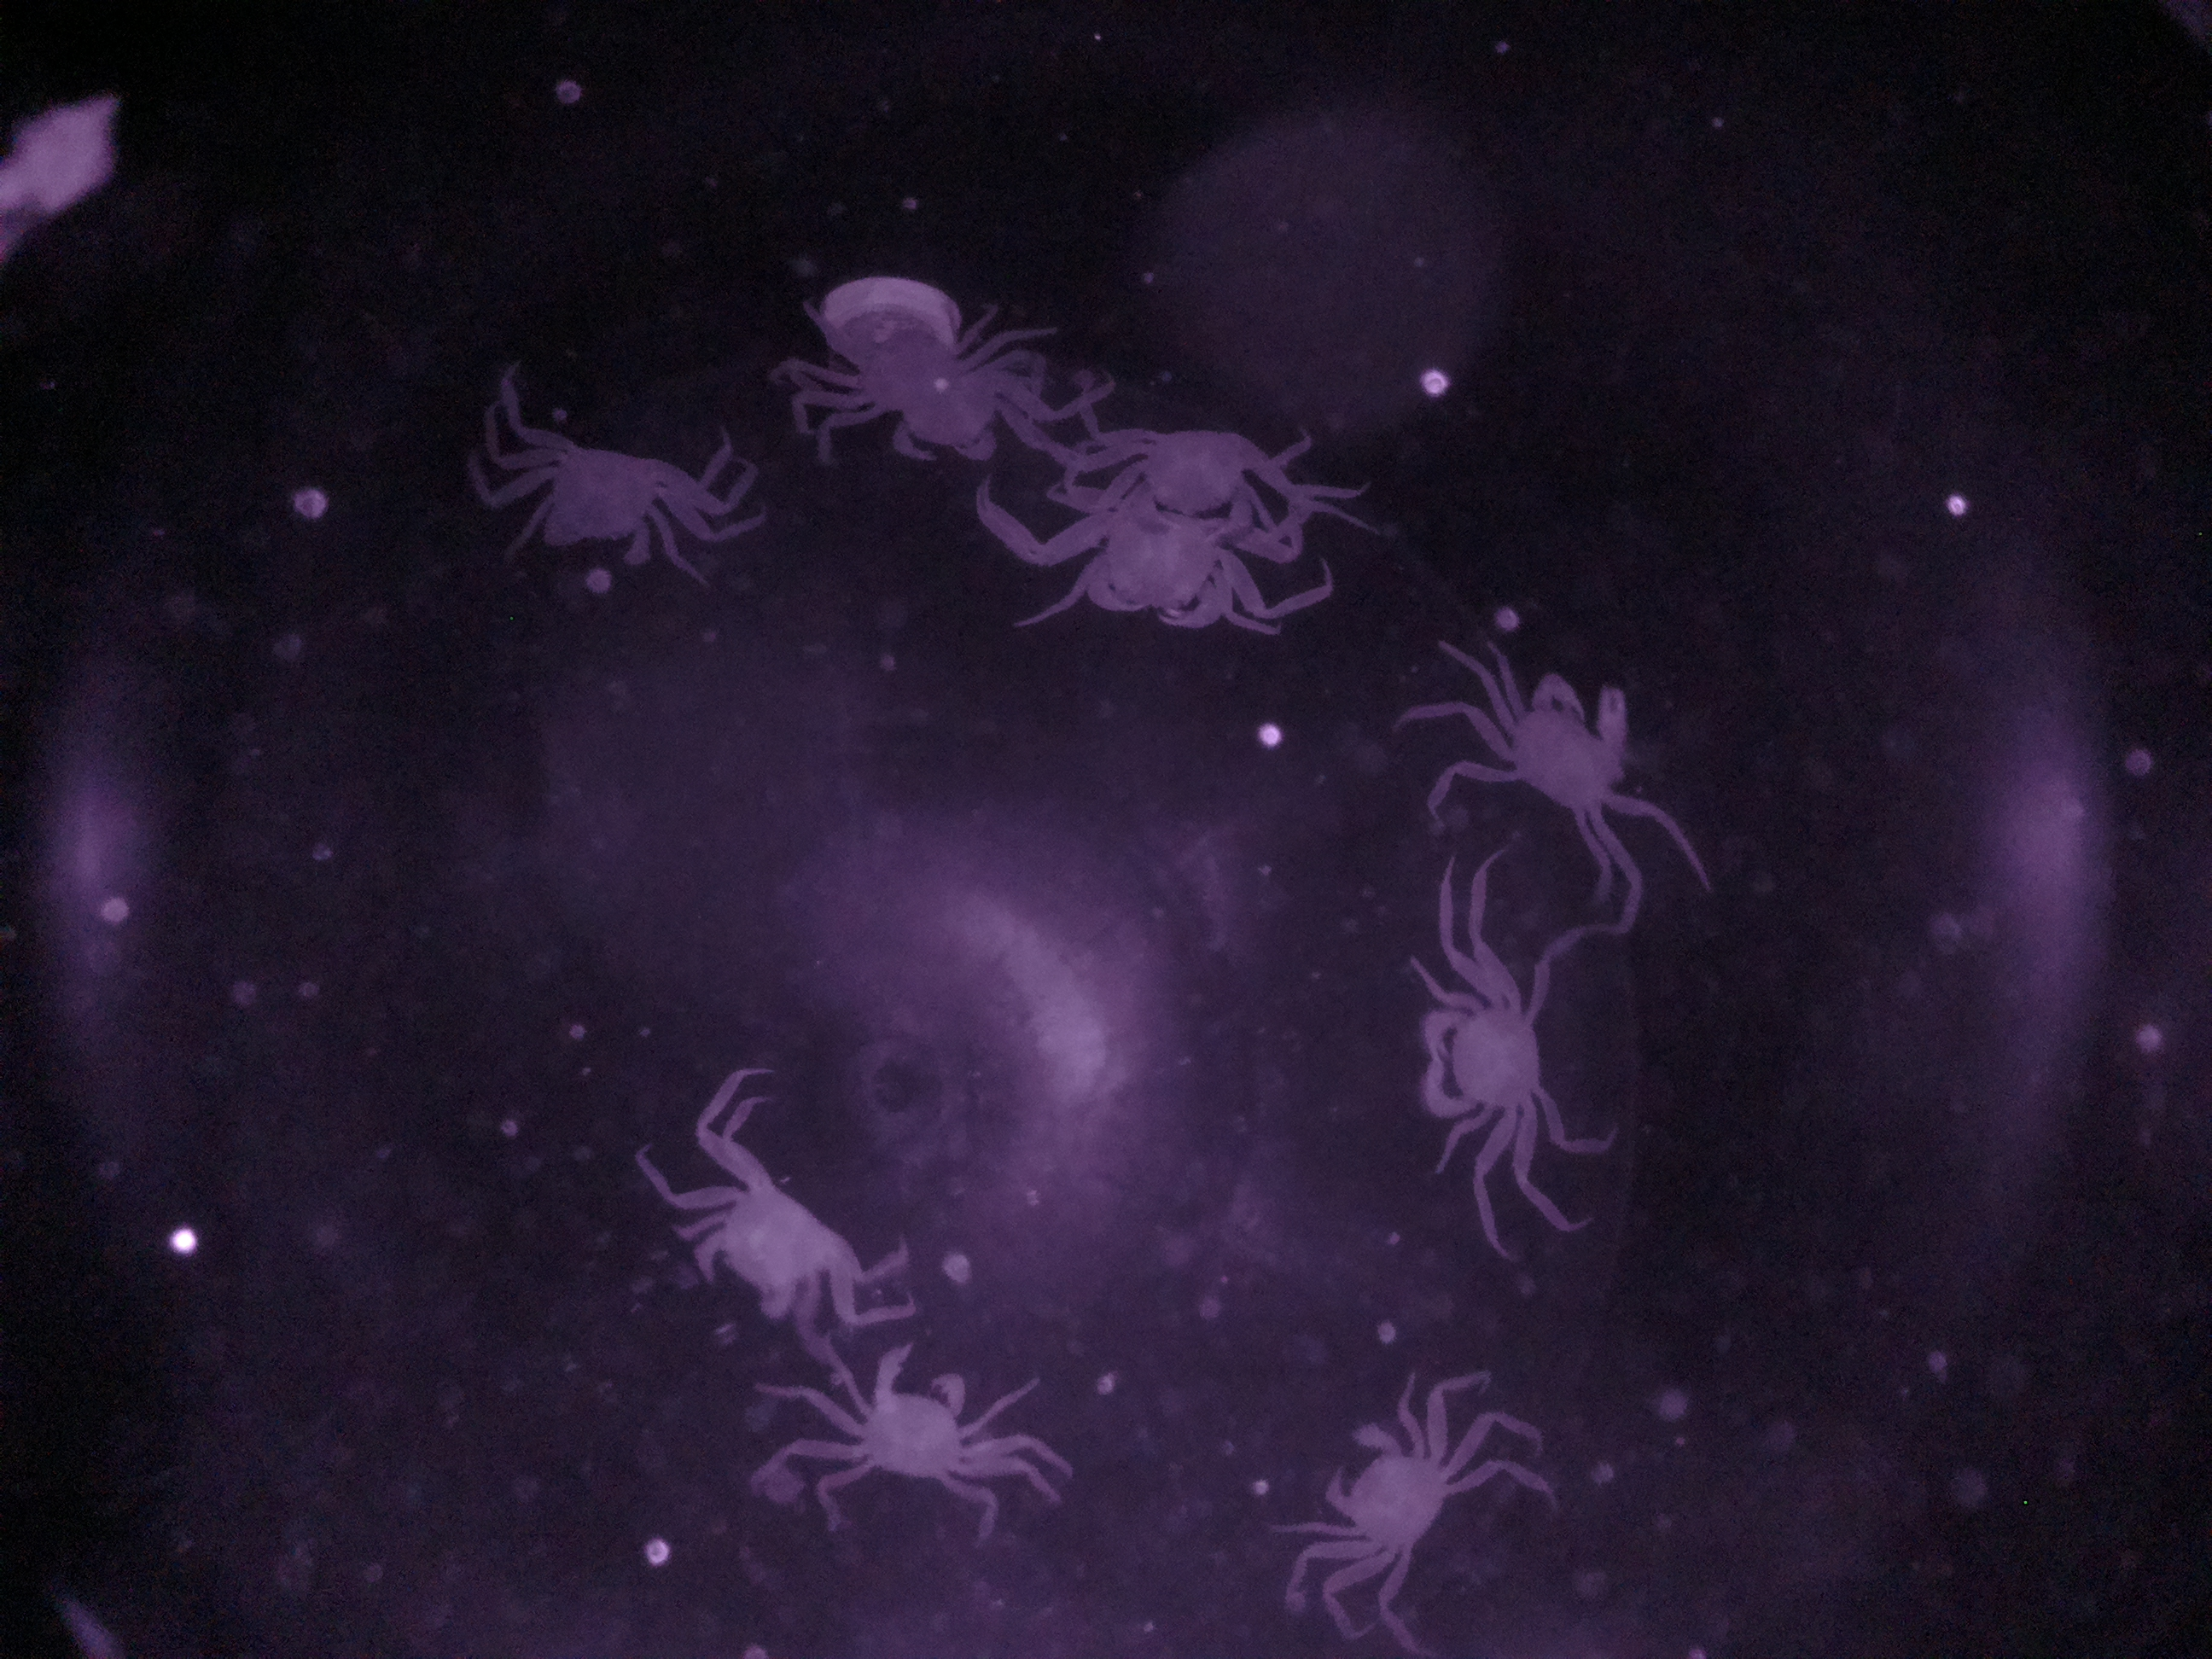Crab: (503, 415, 702, 599), (1305, 1403, 1484, 1600), (1472, 643, 1648, 843), (1407, 965, 1573, 1162), (841, 1331, 988, 1507)
